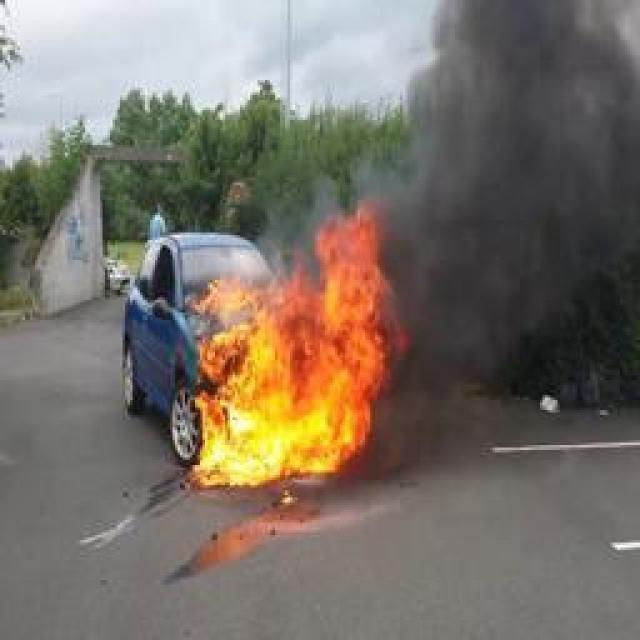Fire: (190, 198, 402, 482)
